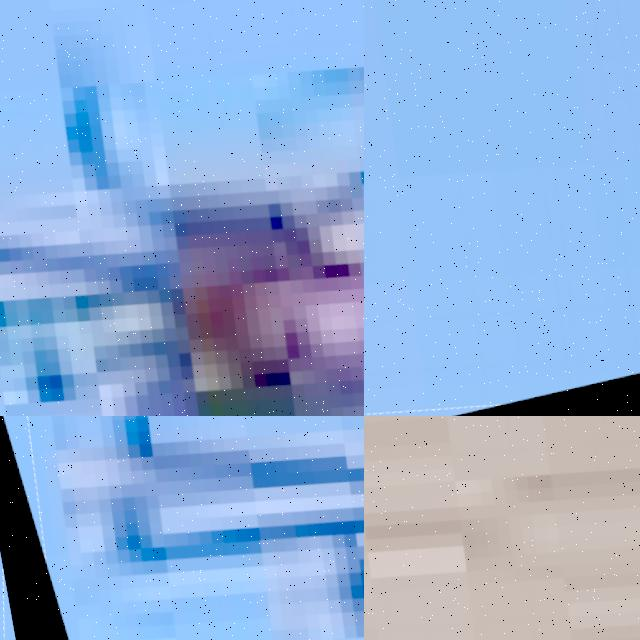drone: (0, 0, 364, 416), (364, 0, 640, 416), (0, 416, 364, 640), (364, 416, 640, 640)
